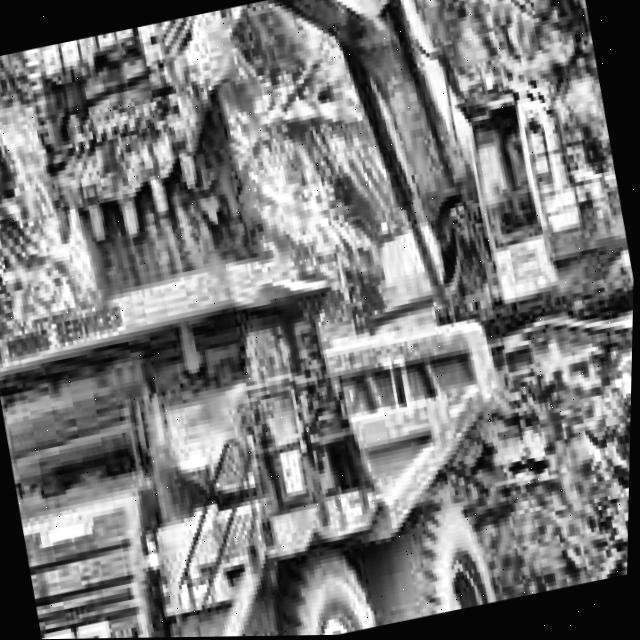dump_truck: (0, 185, 564, 640)
excavator: (16, 0, 640, 559)
